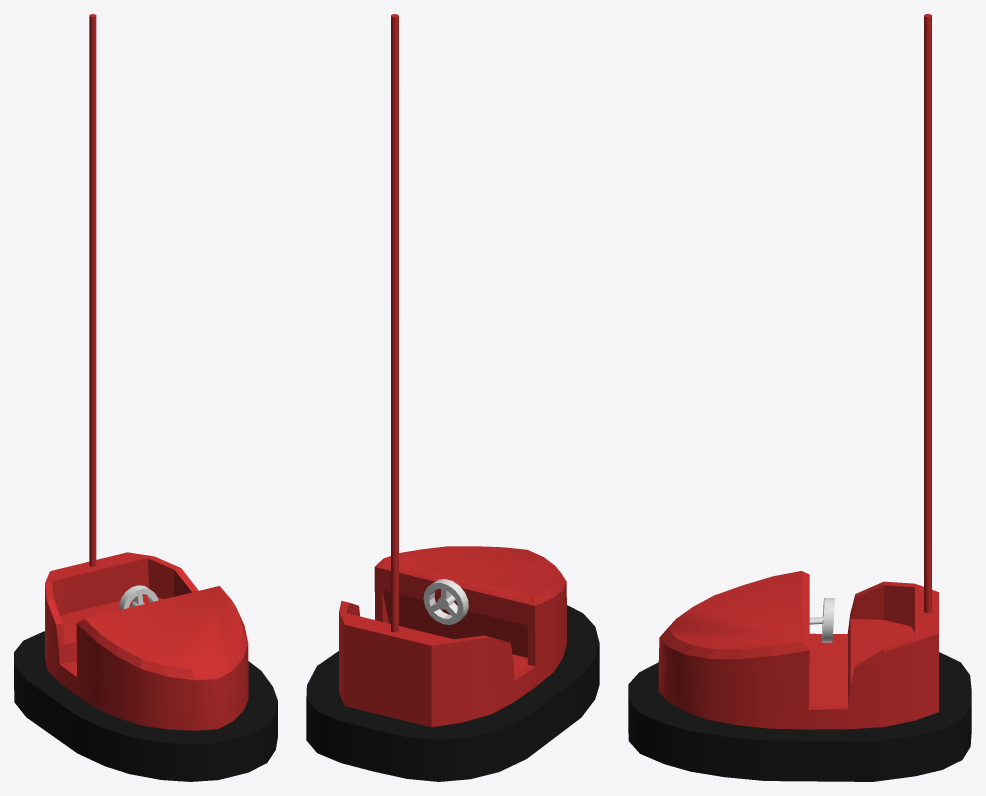
The model's file is carrinho.FBX.
3 renders of one model, left to right at view 1: azimuth 30°, elevation 25°; view 2: azimuth 150°, elevation 25°; view 3: azimuth 270°, elevation 25°, orthographic. The views are drawn at different scales.
Parts seen in each view (by area): view 1: Cylinder008, Cylinder009, Cylinder010, volante001; view 2: Cylinder008, Cylinder009, Cylinder010, volante001; view 3: Cylinder008, Cylinder009, Cylinder010, volante001.
Boxes of the visible parts, x1,y1,x2,y2 form: Cylinder008: (45, 552, 248, 730); Cylinder009: (14, 631, 277, 781); Cylinder010: (89, 14, 96, 566); volante001: (119, 585, 158, 610); Cylinder008: (339, 546, 566, 727); Cylinder009: (306, 605, 599, 781); Cylinder010: (391, 14, 398, 632); volante001: (423, 579, 468, 624); Cylinder008: (658, 571, 938, 729); Cylinder009: (628, 652, 971, 781); Cylinder010: (924, 14, 931, 613); volante001: (809, 598, 834, 642).
Size of the model in its own units: 42.49 by 143 by 62.18.
